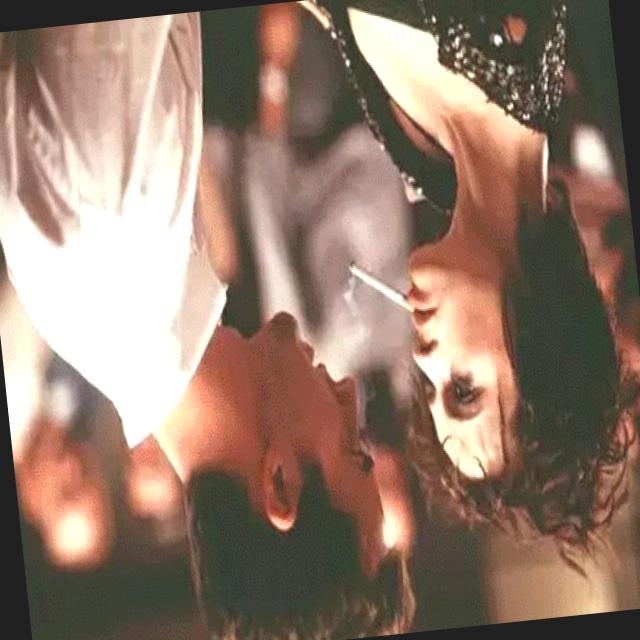smoke: (345, 250, 396, 316)
